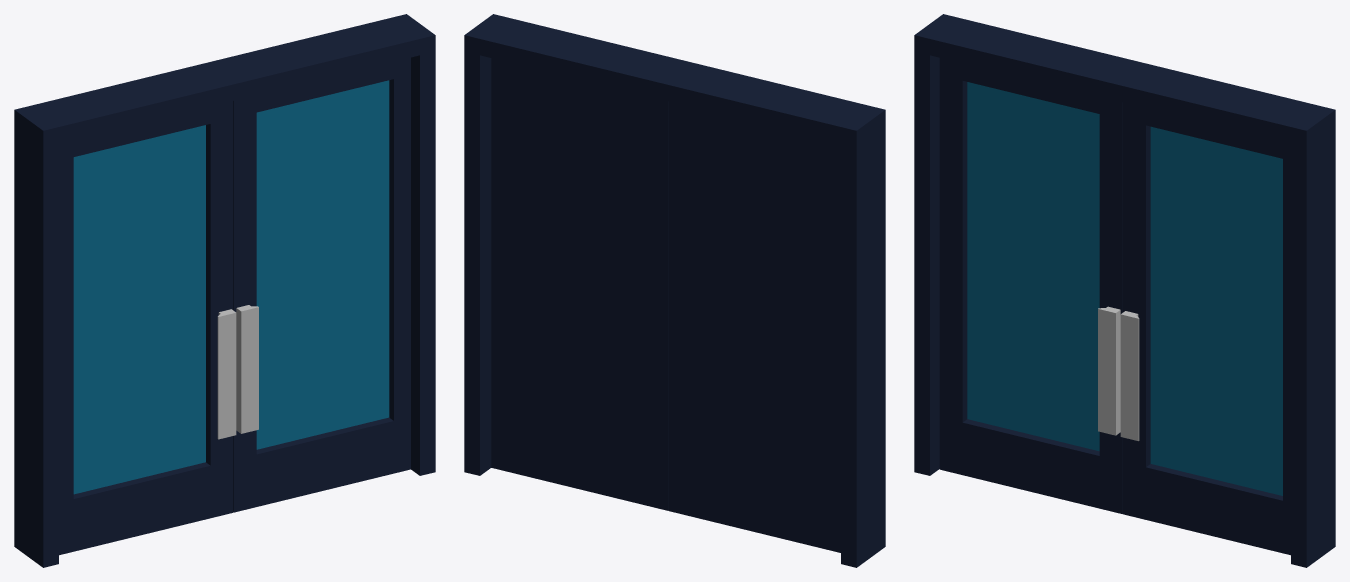
Rendered from portaDupla.FBX.
3 views of the same model, side by side, from view 1: azimuth 30°, elevation 25°; view 2: azimuth 150°, elevation 25°; view 3: azimuth 330°, elevation 25° (orthographic).
Visible parts, largest first — view 1: Box067, Box066, Tube113, Box069, Box068; view 2: Box067, Box066, Tube113; view 3: Box066, Box067, Tube113, Box068, Box069.
Boxes of the visible parts, x1,y1,x2,y2 form: Box067: (233,57,410,512); Box066: (59,101,233,555); Tube113: (14,14,435,567); Box069: (236,305,258,433); Box068: (217,309,236,439); Box067: (491,58,668,510); Box066: (668,101,840,552); Tube113: (464,14,885,567); Box066: (939,58,1122,513); Box067: (1123,102,1290,555); Tube113: (914,14,1335,567); Box068: (1098,306,1120,435); Box069: (1120,311,1139,441).
Bounding box in the file's own units: 75.94 × 80.87 × 9.69.
